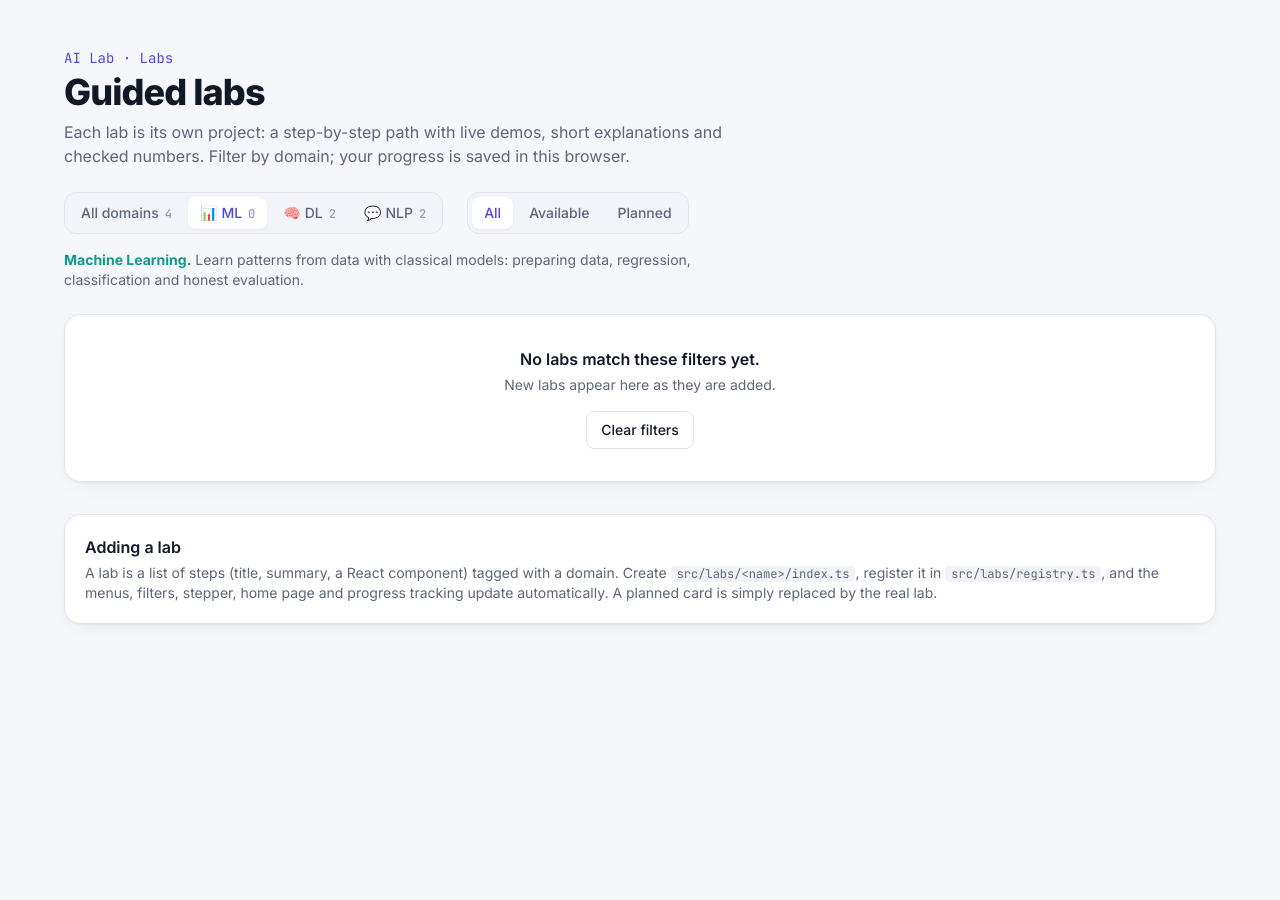
Test case: LabsIndex › filters by domain from the URL and from the chips
Expected: the link "From messy data" is not shown
Expected: the link "Convolutional and recurrent" is not shown
Step 1. Click the radio button labelled "🧠DL2" → click(310, 213), box [271,197,348,229]
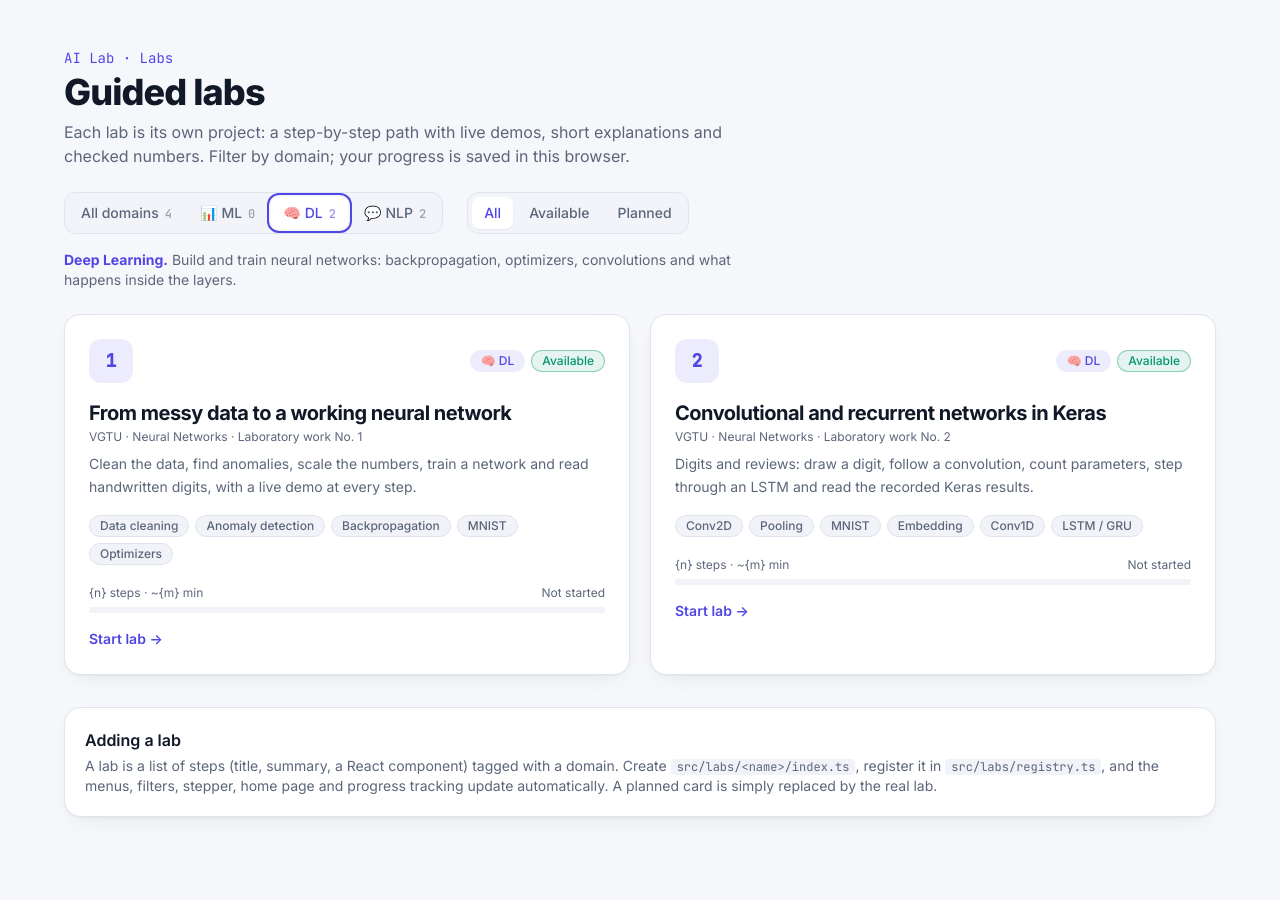
Expected: the link "From messy data" is shown, [64,314,630,674]
Expected: the link "Convolutional and recurrent" is shown, [650,314,1216,674]
